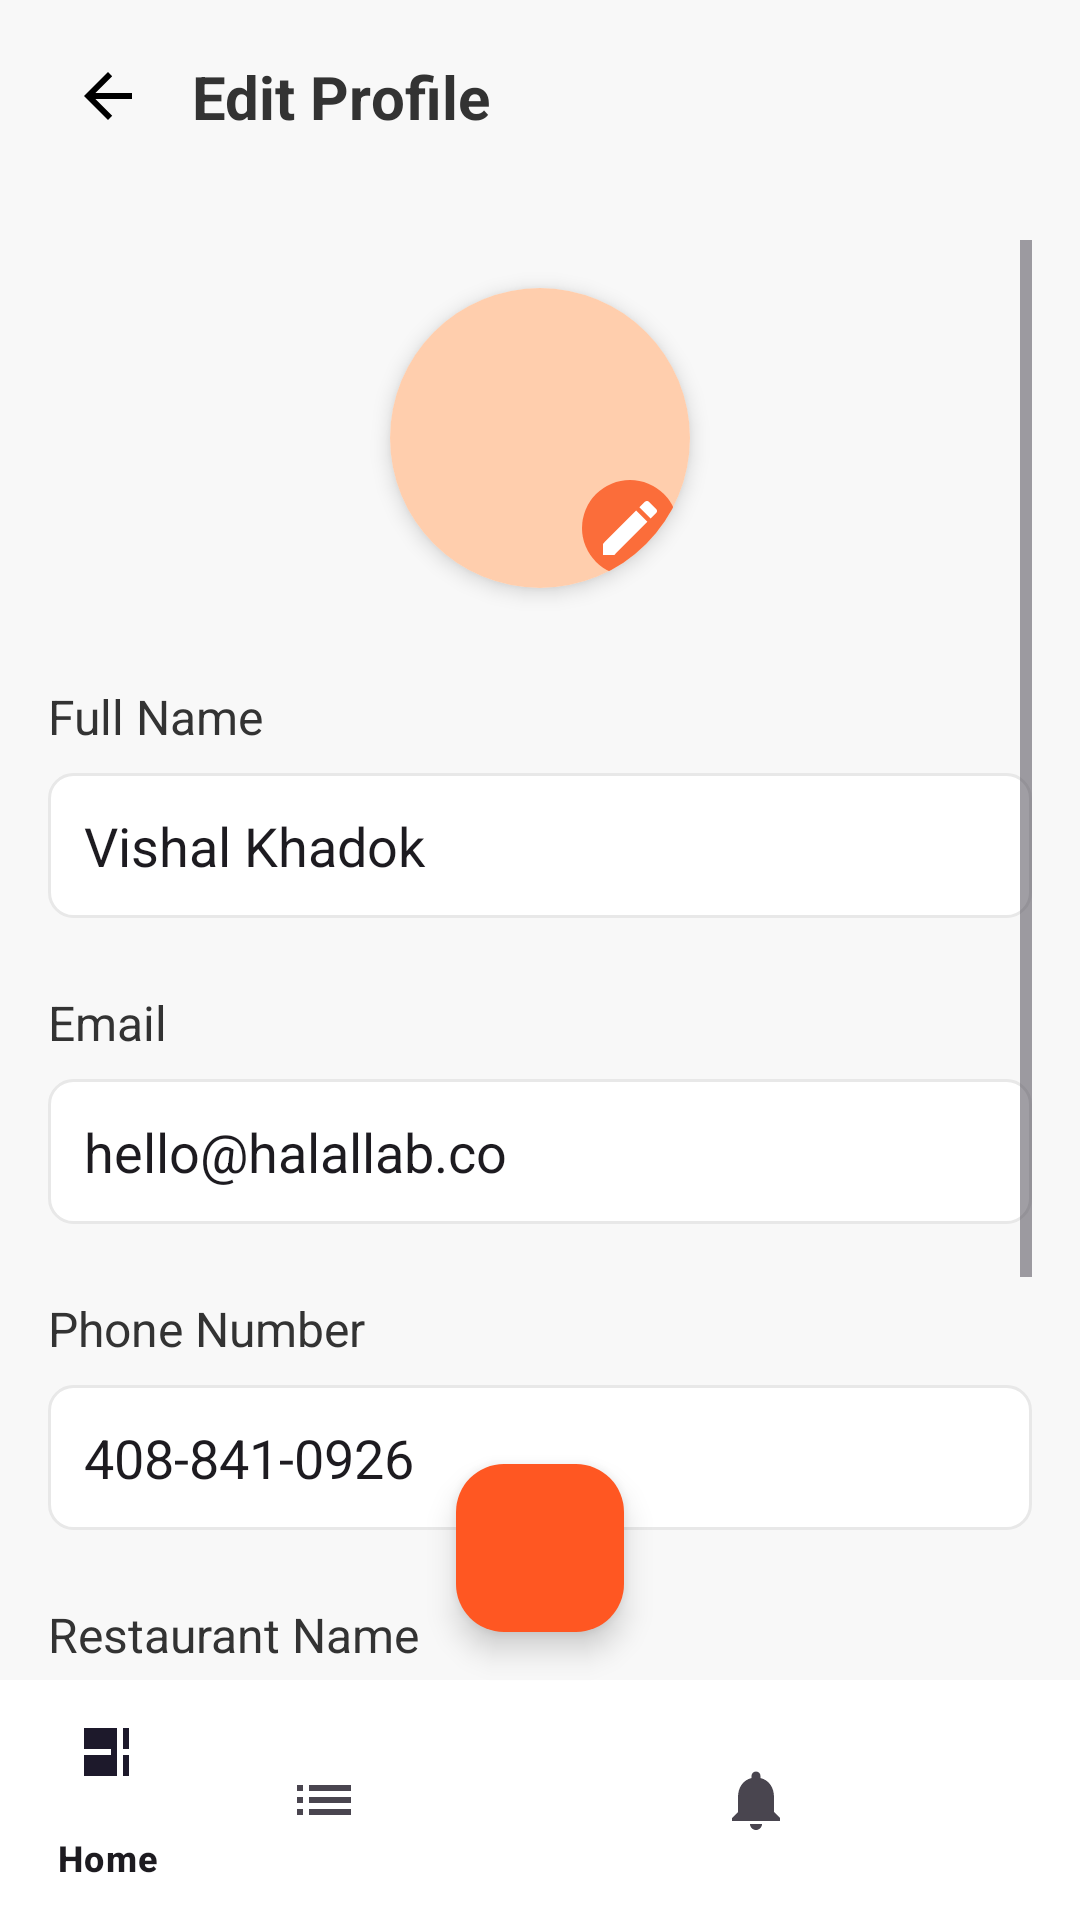

Point at icon controls on the screen. Image size 1080*1920, points as point (x, y).
Back button: point (108, 96)
Edit profile picture: point (630, 528)
